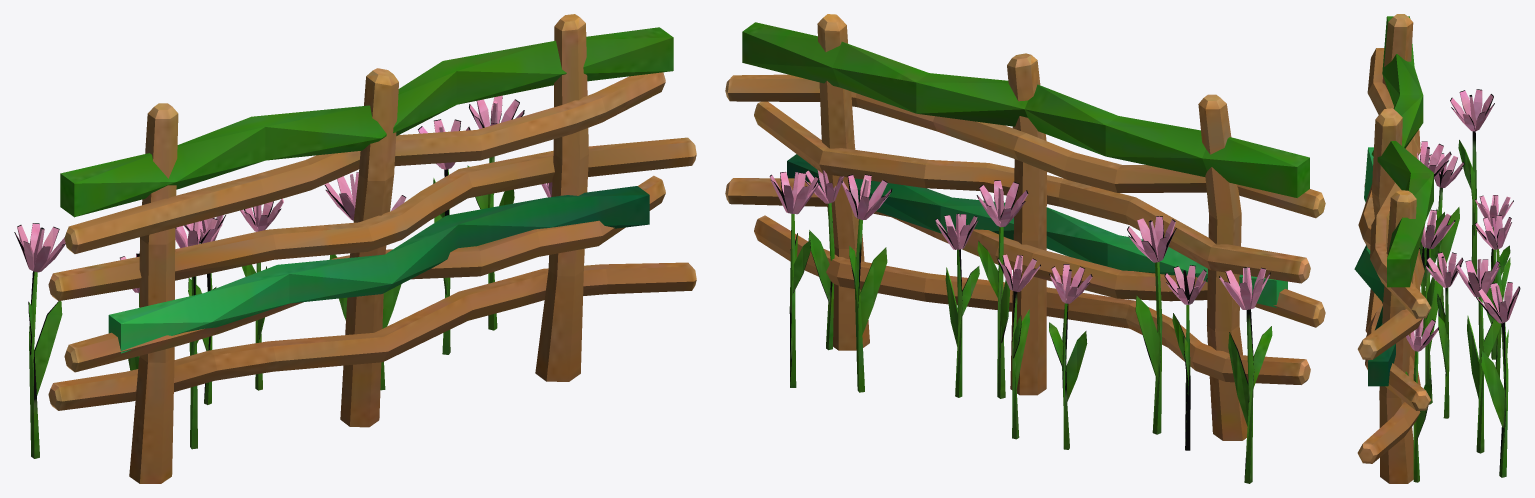
File: fence_flower_lattice_low.glb
3 views of the same model, side by side, from view 1: azimuth 30°, elevation 25°; view 2: azimuth 150°, elevation 25°; view 3: azimuth 270°, elevation 25° (orthographic). The views are drawn at different scales.
Visible parts, largest first — view 1: fence_flower_lattice_low; view 2: fence_flower_lattice_low; view 3: fence_flower_lattice_low.
Boxes of the visible parts, left/top/right/bottom form: fence_flower_lattice_low: left=14, top=14, right=696, bottom=483; fence_flower_lattice_low: left=725, top=14, right=1325, bottom=483; fence_flower_lattice_low: left=1354, top=14, right=1520, bottom=483.
Bounding box in the file's own units: 1.07 × 0.6 × 0.3.
Materials: 1 (1 with a texture image).
